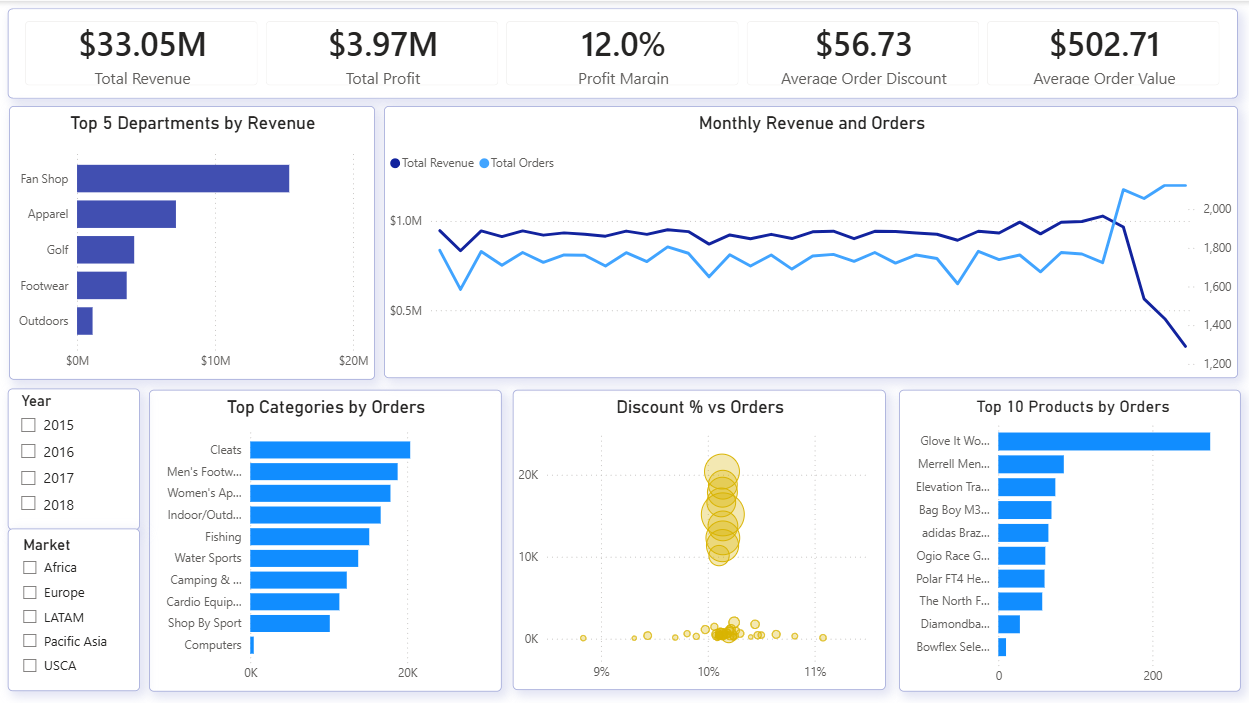

What the dashboard file says about the page in this screenshot:
{"tool":"powerbi","page":{"name":"Sales Analysis","canvas":[1280,720],"ordinal":1},"visuals":[{"type":"cardVisual","fields":{"Data":["_Measures.Total Revenue","_Measures.Total Profit","_Measures.Profit Margin %","_Measures.Average Discount per Order","_Measures.Average Order Value"]},"box":[9,8,1258.7,92],"z":0},{"type":"clusteredBarChart","title":"Top 5 Departments by Revenue","fields":{"Category":["DimProduct.Department Name"],"Y":["_Measures.Total Revenue"]},"box":[9.8,108,374.3,279.8],"z":1000},{"type":"clusteredBarChart","title":"Top Categories by Orders","fields":{"Category":["DimProduct.Category Name"],"Y":["_Measures.Total Orders"]},"box":[153.7,398,360.8,309],"z":2000},{"type":"scatterChart","title":"Discount % vs Orders","fields":{"X":["_Measures.Discount %"],"Category":["DimProduct.Category Display"],"Y":["_Measures.Total Orders"],"Size":["_Measures.Total Revenue"]},"box":[525.8,398,381.8,307.4],"z":3000},{"type":"lineChart","title":"Monthly Revenue and MOM Growth","fields":{"Category":["DimDate.Month-Year"],"Y":["_Measures.Total Revenue"],"Y2":["_Measures.Total Orders"]},"box":[395.2,109.2,873.8,278.6],"z":4000},{"type":"clusteredBarChart","title":"Top 10 Products by Orders","fields":{"Category":["DimProduct.Product Name"],"Y":["_Measures.Total Orders"]},"box":[920.5,398,349.4,309],"z":5000},{"type":"slicer","fields":{"Values":["DimDate.Year"]},"box":[9,396.5,135.2,145],"z":6000},{"type":"slicer","fields":{"Values":["DimDestination.Market"]},"box":[9,539.2,135.2,166.7],"z":7000}]}

Visuals, with their boxes in screenshot pixels (x1, y1, x2, y2), scaled from the page's 1280x720 canvas onto the 1249x703 screenshot:
cardVisual - _Measures.Total Revenue x _Measures.Total Profit: box=[9, 8, 1237, 98]
"Top 5 Departments by Revenue" clusteredBarChart: box=[10, 105, 375, 379]
"Top Categories by Orders" clusteredBarChart: box=[150, 389, 502, 690]
"Discount % vs Orders" scatterChart: box=[513, 389, 886, 689]
"Monthly Revenue and MOM Growth" lineChart: box=[386, 107, 1238, 379]
"Top 10 Products by Orders" clusteredBarChart: box=[898, 389, 1239, 690]
slicer - DimDate.Year: box=[9, 387, 141, 529]
slicer - DimDestination.Market: box=[9, 526, 141, 689]
